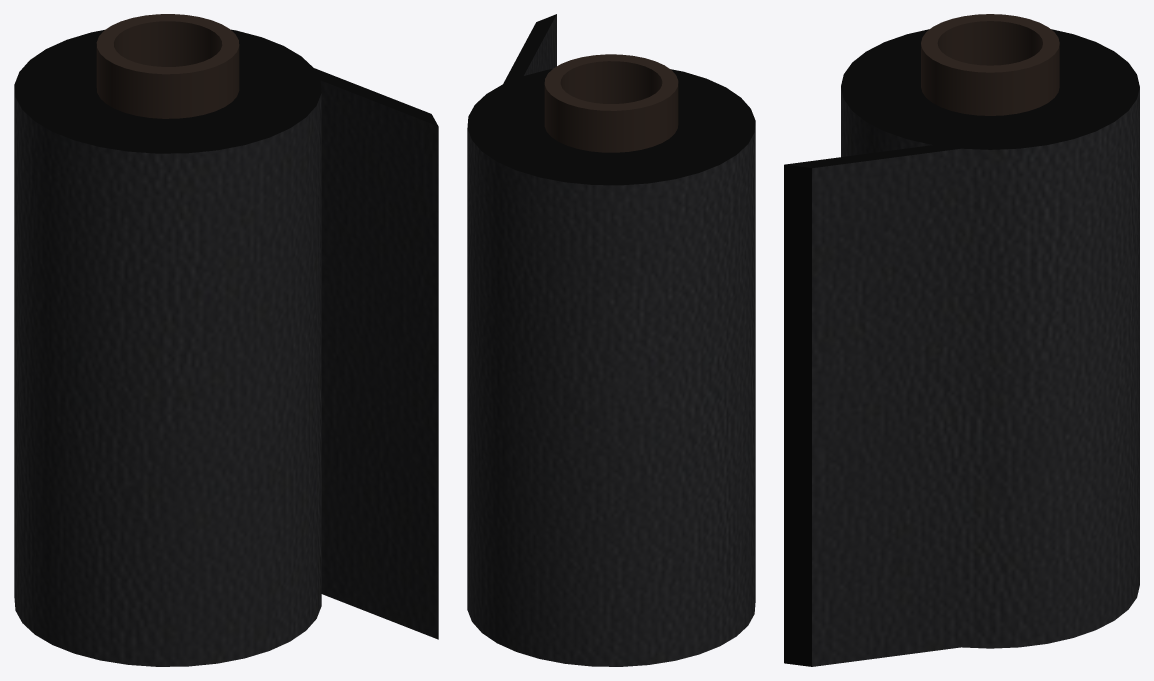
The model's file is F_BlackSkin_03.fbx.
3 views of the same model, side by side, from view 1: azimuth 30°, elevation 25°; view 2: azimuth 150°, elevation 25°; view 3: azimuth 270°, elevation 25° (orthographic). The views are drawn at different scales.
Visible parts, largest first — view 1: F_BlackSkin_03; view 2: F_BlackSkin_03; view 3: F_BlackSkin_03.
Boxes of the visible parts, x1,y1,x2,y2 form: F_BlackSkin_03: (14, 14, 438, 666); F_BlackSkin_03: (467, 14, 755, 666); F_BlackSkin_03: (784, 14, 1139, 666).
Size of the model in its own units: 62.7 by 110 by 65.15.
1 material, 1 textured.
